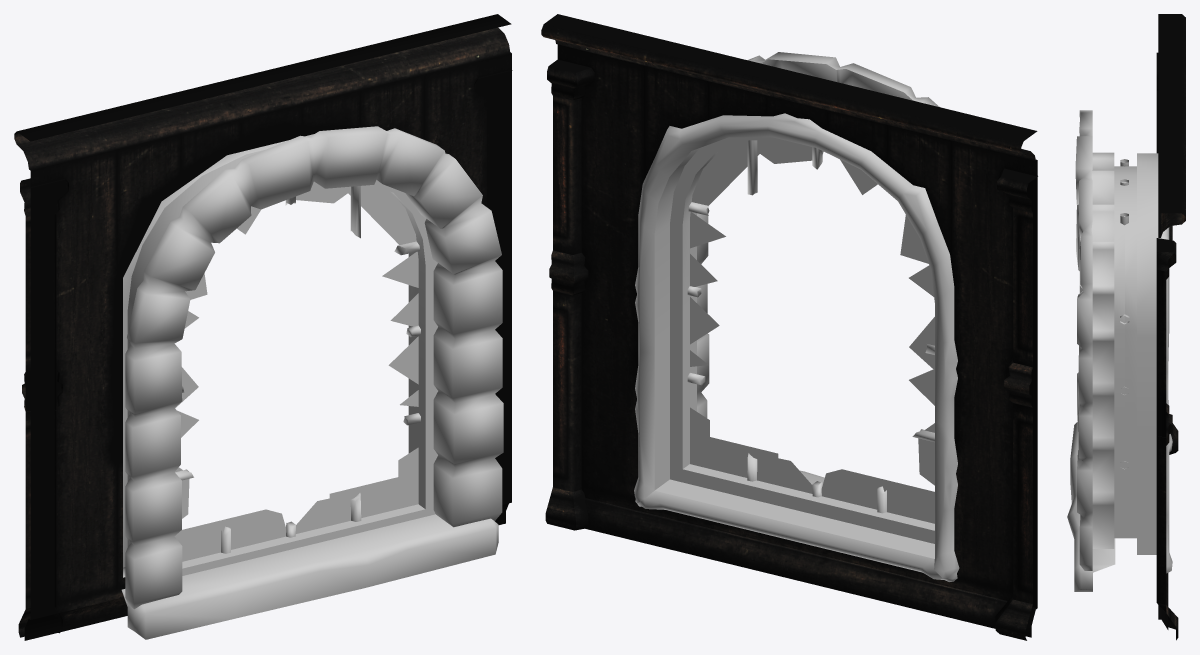
Rendered from window_large_blue_broken_rotten.dae.
3 views of the same model, side by side, from view 1: azimuth 30°, elevation 25°; view 2: azimuth 150°, elevation 25°; view 3: azimuth 270°, elevation 25° (orthographic). The views are drawn at different scales.
Parts seen in each view (by area): view 1: window_large_02_blue11, polySurface639, polySurface640, window_frame_no_boards, broken_glass, polySurface699; view 2: window_large_02_blue11, window_frame_no_boards, broken_glass, polySurface639, polySurface699; view 3: window_frame_no_boards, polySurface639, window_large_02_blue11, polySurface640, polySurface699.
Part boxes in pixels (x1,y1,x2,y2): window_large_02_blue11: (14,14,512,640); polySurface639: (125,126,503,609); polySurface640: (121,514,498,639); window_frame_no_boards: (123,134,437,577); broken_glass: (174,181,418,561); polySurface699: (175,186,420,553); window_large_02_blue11: (541,14,1037,640); window_frame_no_boards: (634,113,959,581); broken_glass: (690,140,934,523); polySurface639: (697,52,939,417); polySurface699: (687,140,934,513); window_frame_no_boards: (1114,153,1172,573); polySurface639: (1075,110,1114,570); window_large_02_blue11: (1156,14,1185,640); polySurface640: (1067,422,1115,591); polySurface699: (1120,159,1129,469).
Size of the model in its own units: 4 by 4 by 1.01.
